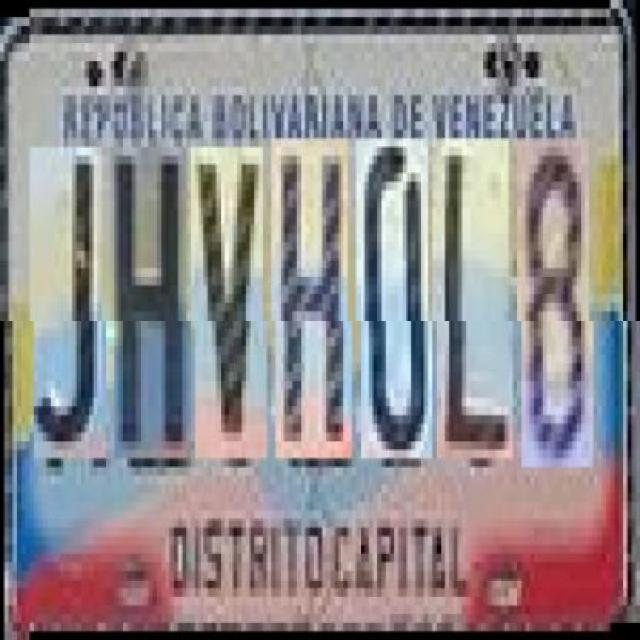0: (360, 138, 432, 458)
8: (521, 138, 594, 467)
h: (276, 138, 352, 458), (114, 146, 191, 459)
j: (34, 146, 106, 459)
l: (436, 138, 513, 458)
v: (195, 146, 267, 459)
